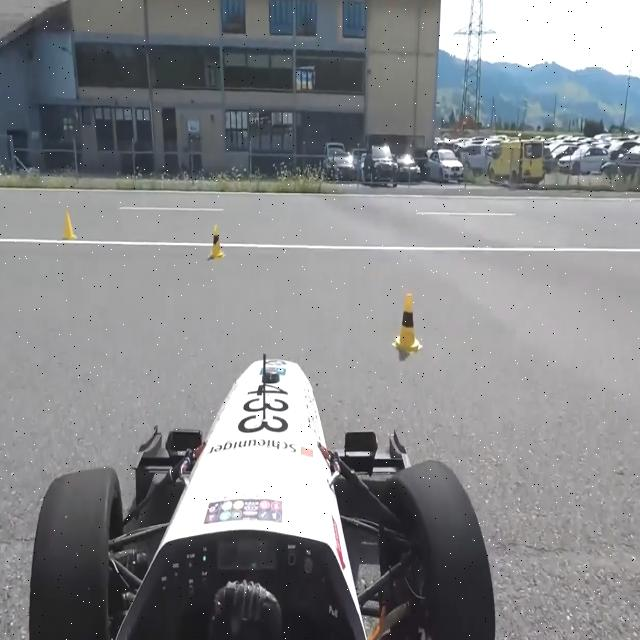yellow_cone: (392, 294, 422, 358), (209, 224, 225, 260), (61, 211, 77, 240)
